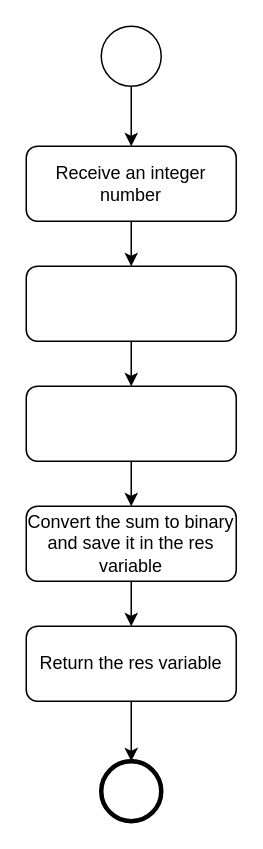
Image size: 263x849. Some labels were removed from this diagram. The centre of each missing label's shape, as x and y in pixels:
Compute and allocate in the sum variable the sum of the digits of the number: (x=130, y=423)
Initialise two variables: sum = 0 res = "": (x=130, y=303)
